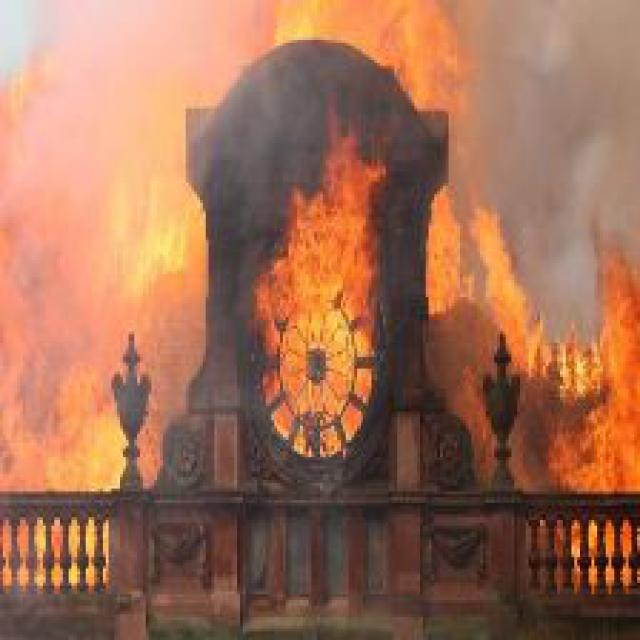fire: (3, 9, 200, 494), (246, 128, 400, 446), (534, 249, 637, 500), (423, 183, 548, 334)
